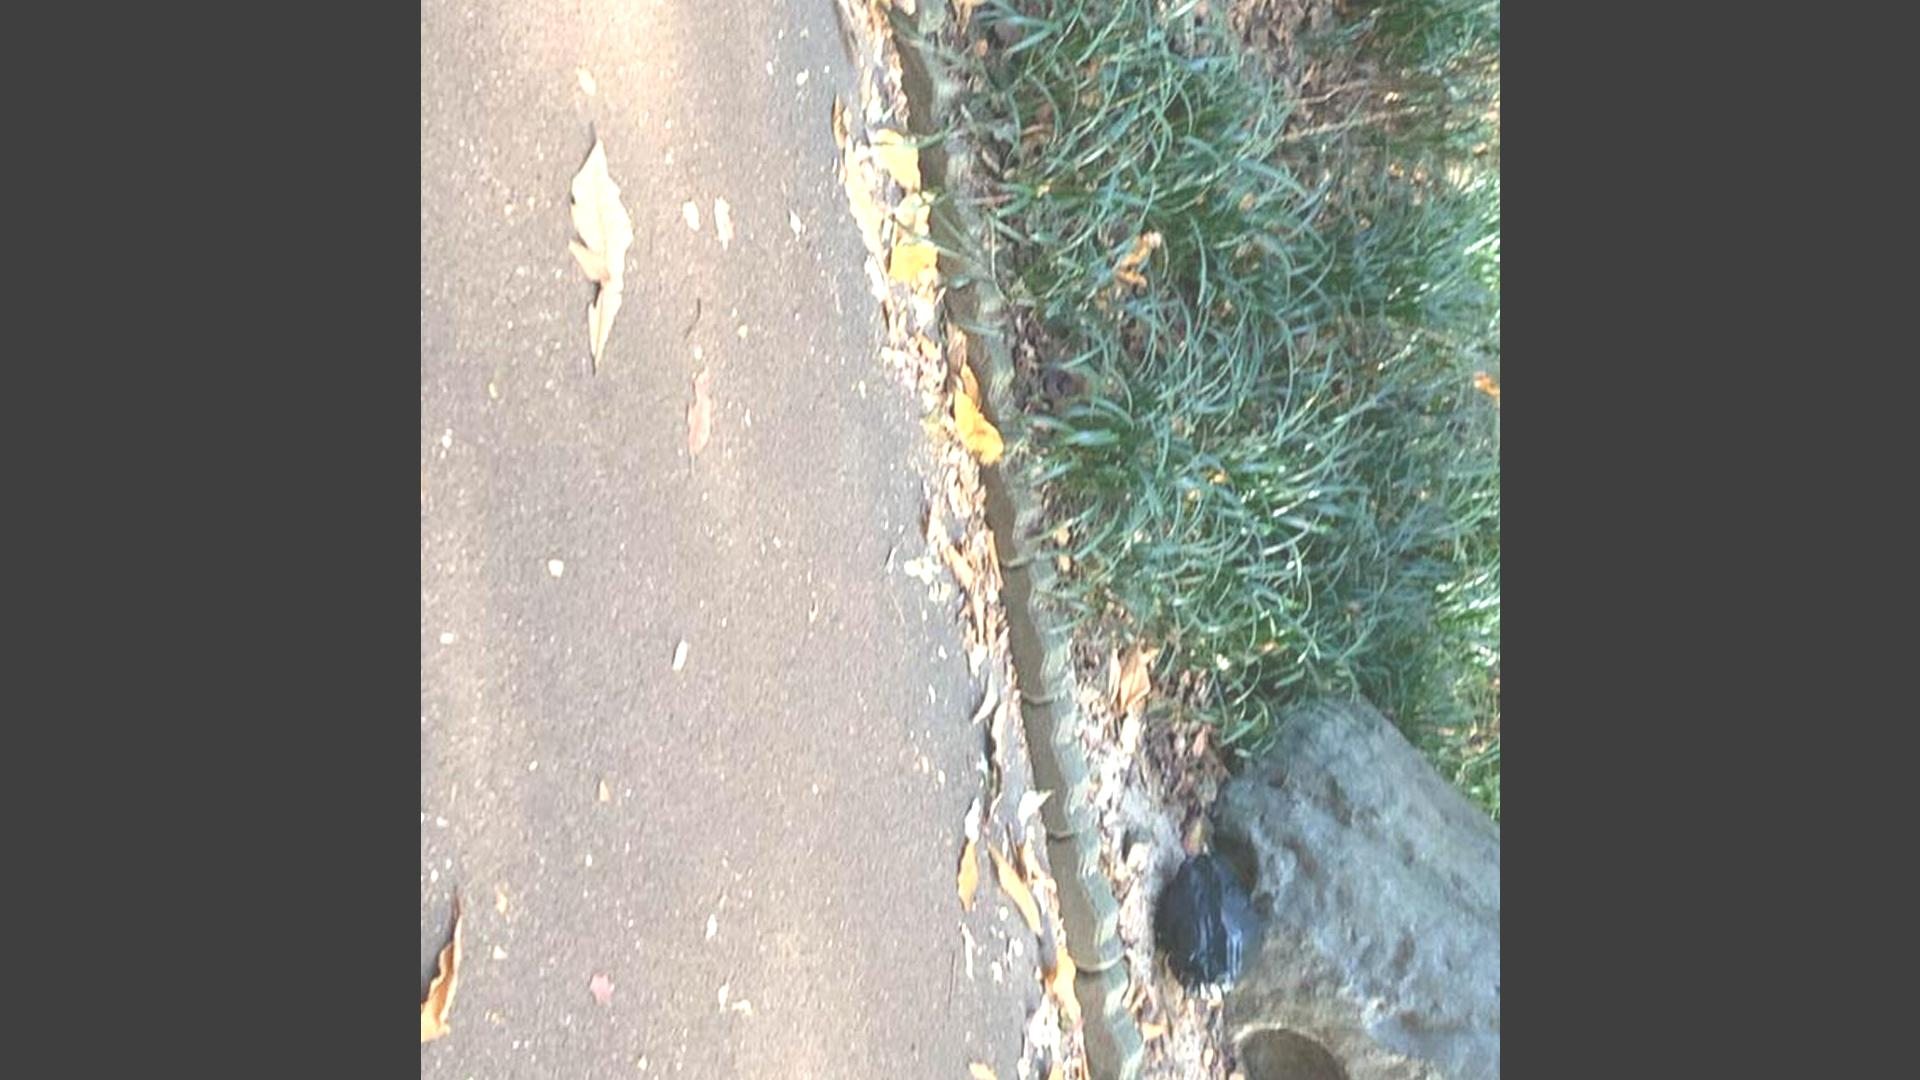black_bag: (1149, 841, 1259, 1002)
